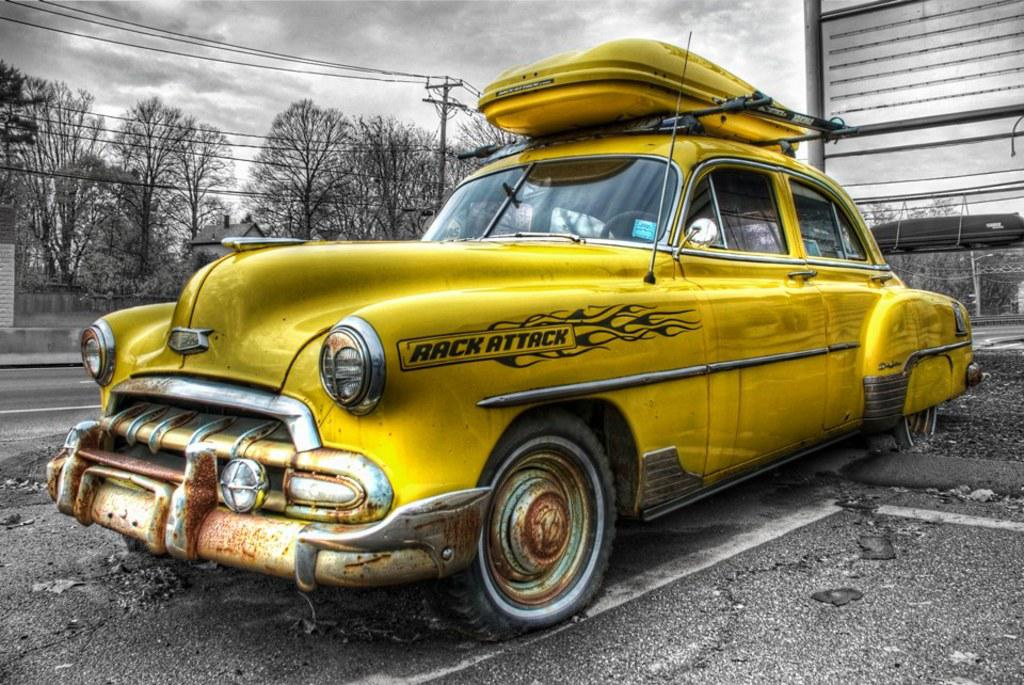taxi: (47, 32, 982, 643)
